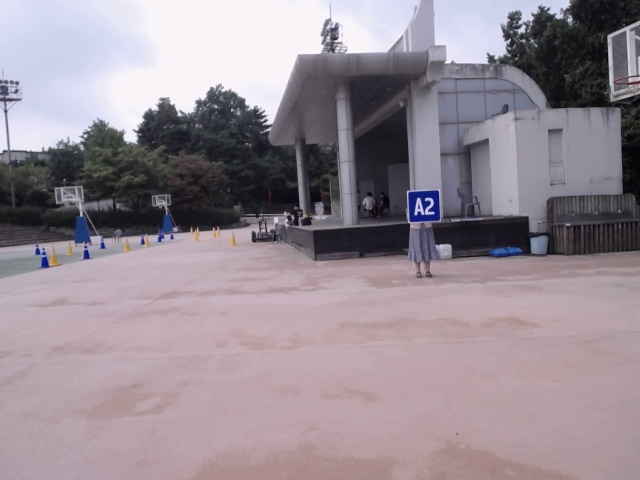delivery_a2: (408, 189, 441, 223)
